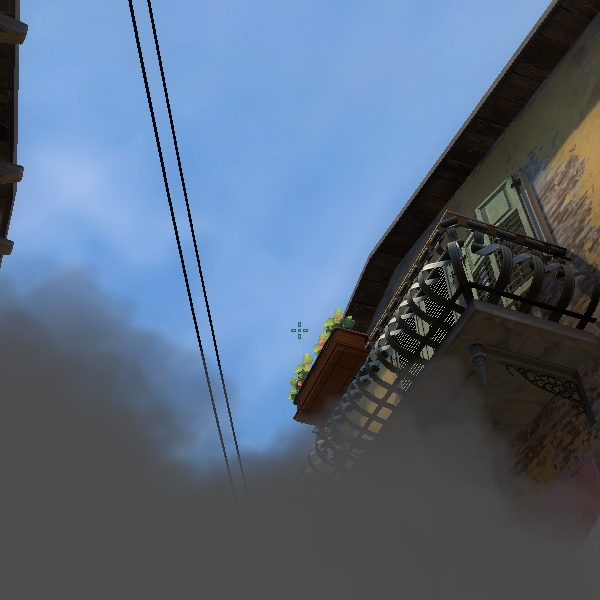ct_body: (346, 0, 600, 600)
